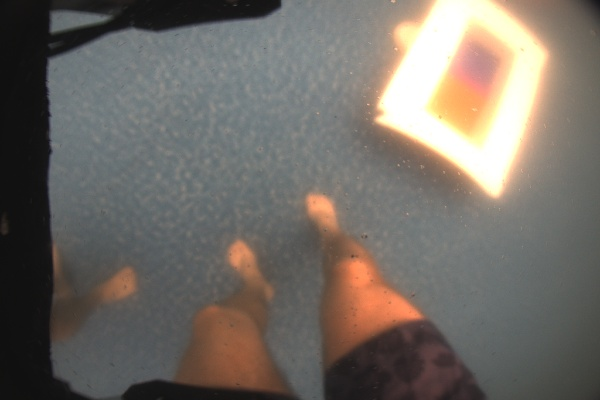bin: (68, 27, 278, 264)
bin_bleue: (126, 128, 186, 201)
bin_rouge: (146, 70, 218, 144)
